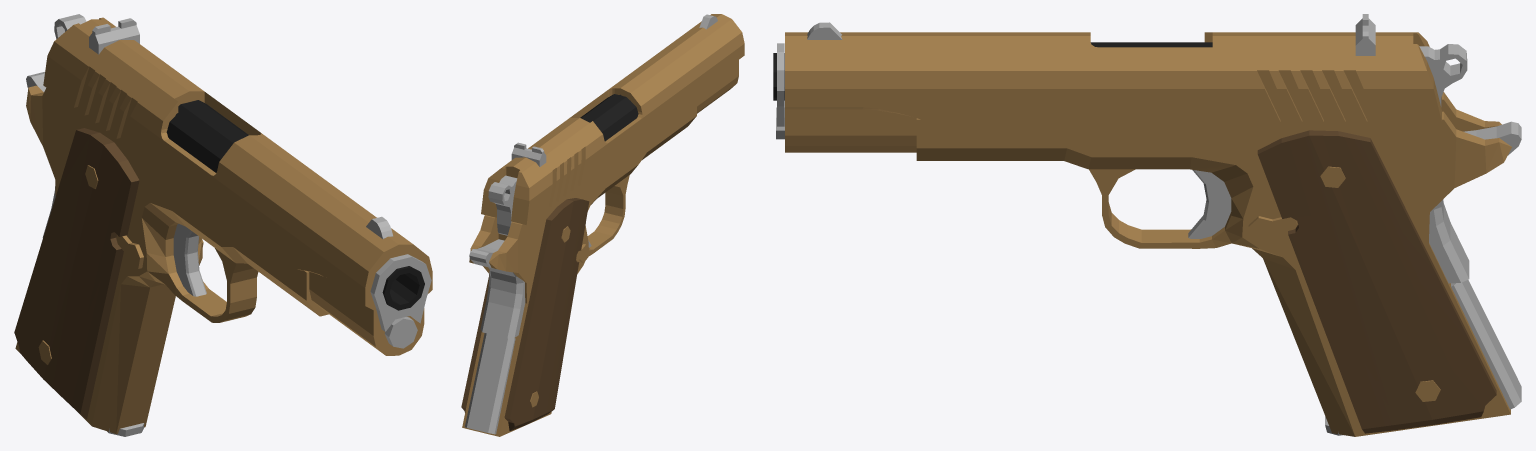
3 views of the same model, side by side, from view 1: azimuth 30°, elevation 25°; view 2: azimuth 150°, elevation 25°; view 3: azimuth 270°, elevation 25° (orthographic). The views are drawn at different scales.
Parts seen in each view (by area): view 1: M1911_1; view 2: M1911_1; view 3: M1911_1.
Part boxes in pixels (x1,y1,x2,y2): M1911_1: (14,14,432,436); M1911_1: (461,14,744,436); M1911_1: (773,14,1521,436).
Bounding box in the file's own units: 10.13 × 49.26 × 82.37.
Materials: 1 (1 with a texture image).
